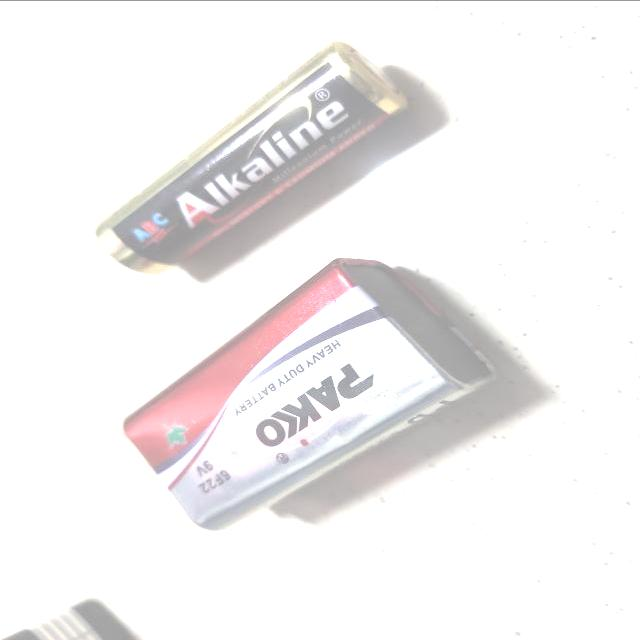9V: (112, 252, 509, 540)
AA: (70, 31, 434, 280)
